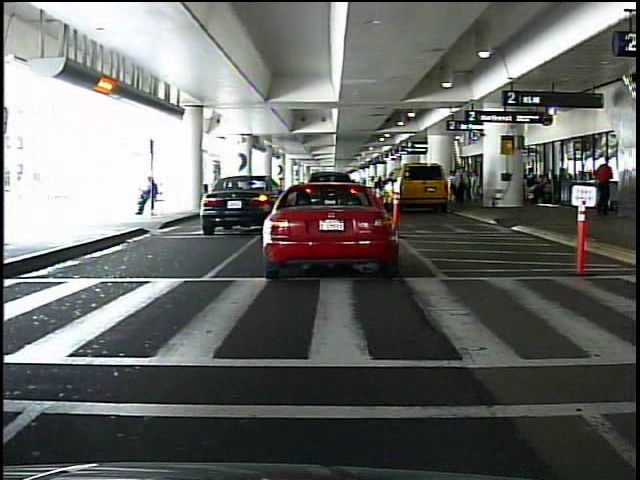person: (623, 142, 637, 304), (595, 157, 613, 217)
